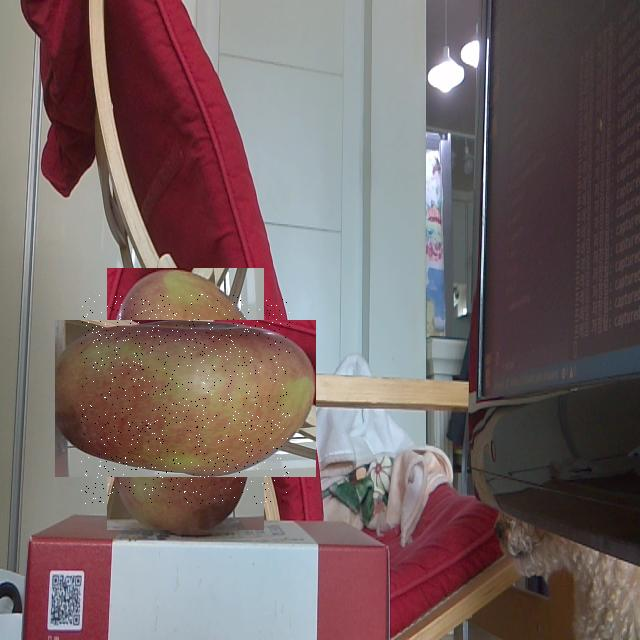apple: (81, 294, 290, 504)
